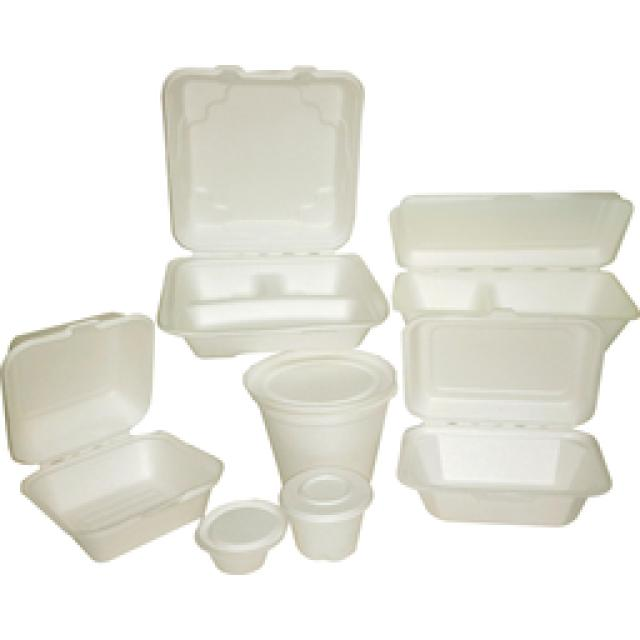styrofoam: (0, 68, 392, 572), (390, 192, 638, 525)
